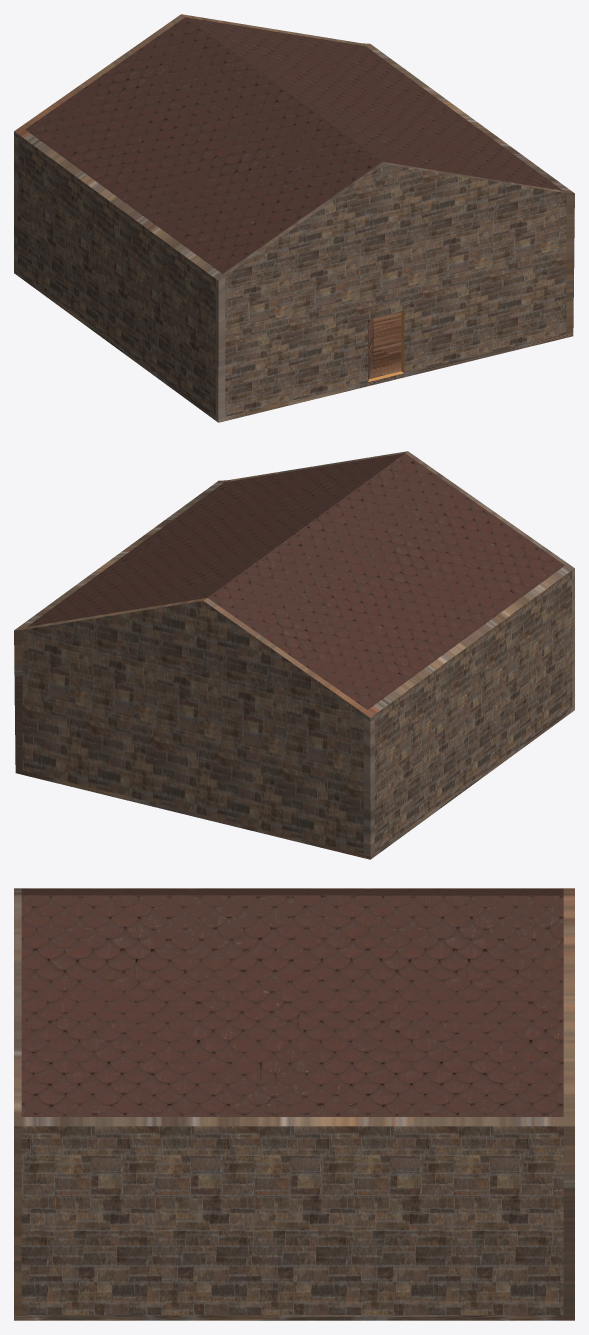
File: Scene1House2.fbx
3 views of the same model, one above another, from view 1: azimuth 30°, elevation 25°; view 2: azimuth 150°, elevation 25°; view 3: azimuth 270°, elevation 25° (orthographic). The views are drawn at different scales.
Parts seen in each view (by area): view 1: House; view 2: House; view 3: House.
Part boxes in pixels (x1,y1,x2,y2): House: (14,14,574,422); House: (14,451,574,859); House: (14,888,574,1320).
Size of the model in its own units: 1130 by 1123 by 661.
6 materials, 5 textured.
